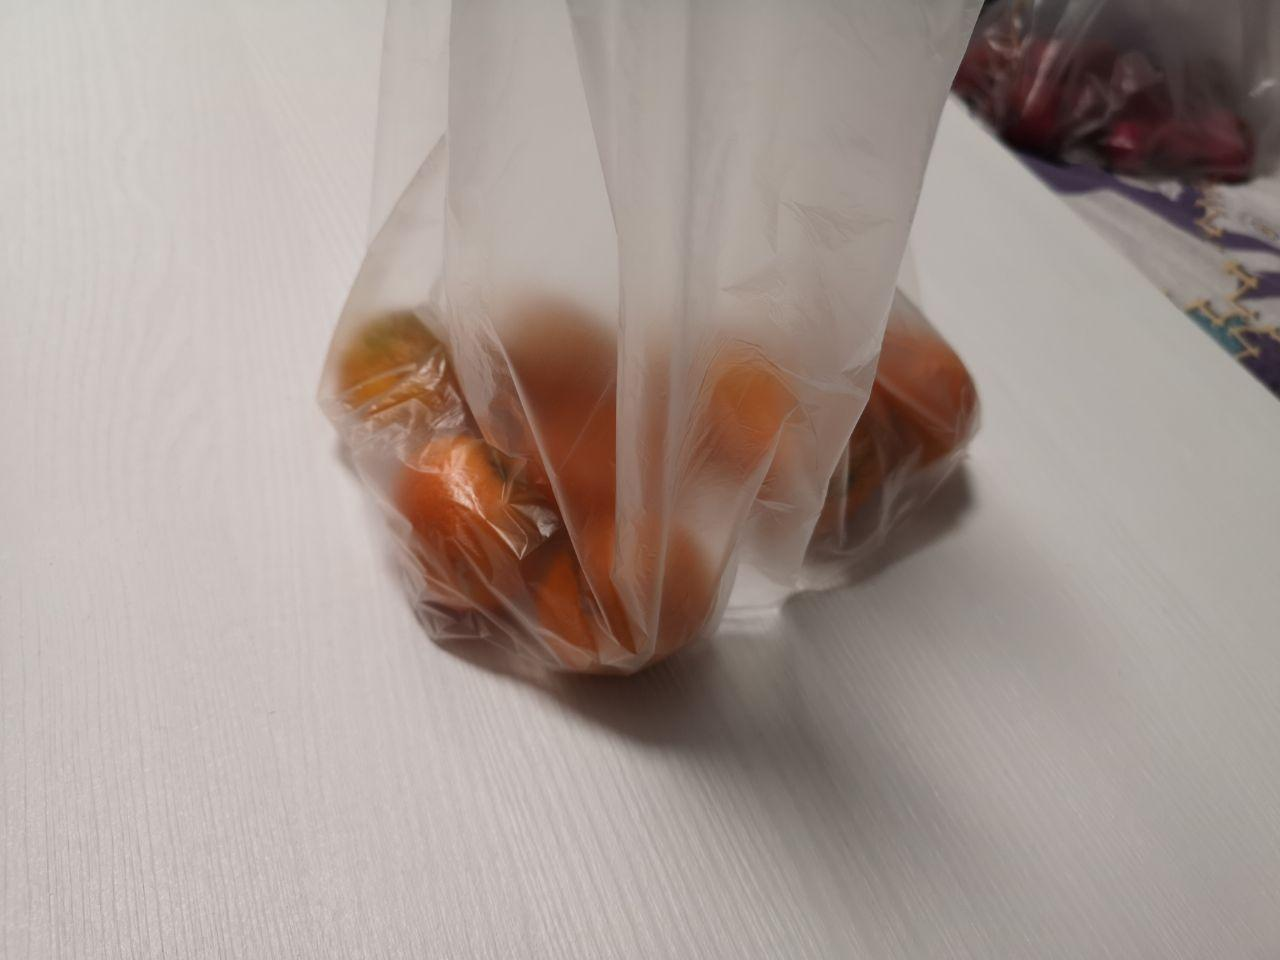clementin: (315, 249, 982, 680)
